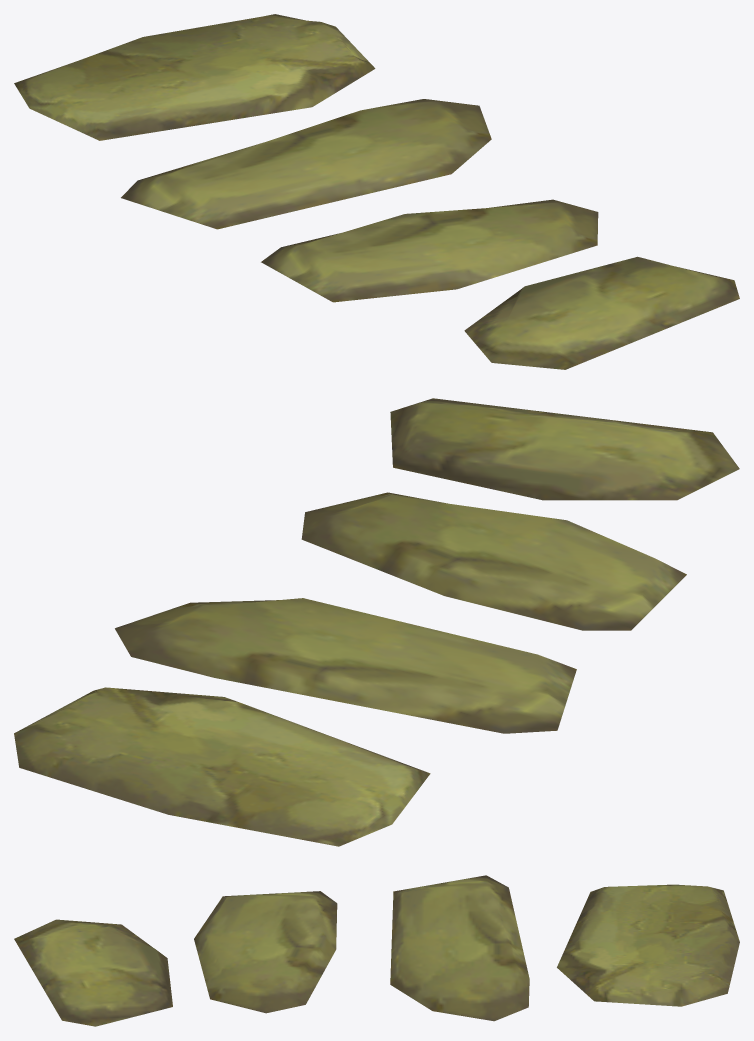
File: loyalismwood_road02.FBX
3 views of the same model, one above another, from view 1: azimuth 30°, elevation 25°; view 2: azimuth 150°, elevation 25°; view 3: azimuth 270°, elevation 25° (orthographic). The views are drawn at different scales.
Parts seen in each view (by area): view 1: loyalismwood_round02; view 2: loyalismwood_round02; view 3: loyalismwood_round02.
Part boxes in pixels (x1=…): loyalismwood_round02: x1=14, y1=14, x2=739, y2=369; loyalismwood_round02: x1=14, y1=398, x2=739, y2=846; loyalismwood_round02: x1=14, y1=875, x2=739, y2=1026.
Size of the model in its own units: 307 by 624 by 9.49.
